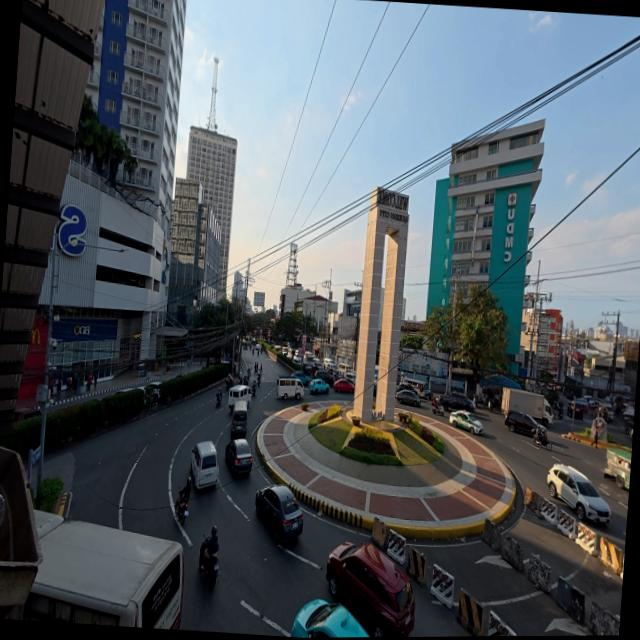Jeepneys: (603, 449, 631, 488)
bus: (22, 511, 183, 629)
car: (325, 542, 414, 636), (546, 464, 609, 523), (290, 600, 368, 637), (254, 485, 303, 542), (224, 439, 252, 473), (504, 411, 537, 436), (449, 411, 482, 434), (439, 393, 475, 412), (137, 382, 160, 403), (395, 390, 420, 407), (13, 407, 39, 421), (590, 406, 612, 422), (308, 379, 329, 394), (566, 402, 583, 420), (313, 370, 333, 385), (333, 378, 354, 392), (291, 371, 309, 387), (574, 399, 595, 412), (396, 382, 414, 393), (112, 387, 134, 395), (343, 371, 355, 384), (582, 396, 594, 408), (420, 389, 431, 401), (301, 362, 310, 375), (311, 359, 322, 368), (629, 428, 632, 438)
motorcycle: (199, 538, 218, 587), (532, 426, 551, 450), (174, 495, 187, 525), (486, 396, 500, 412), (431, 401, 443, 416), (556, 408, 564, 420), (250, 384, 256, 397), (215, 395, 221, 407), (257, 373, 259, 384)
trucks: (501, 387, 552, 426)
vans: (190, 441, 218, 488), (230, 400, 247, 439), (275, 376, 303, 399), (227, 385, 250, 410), (337, 363, 350, 375), (322, 359, 333, 368)
